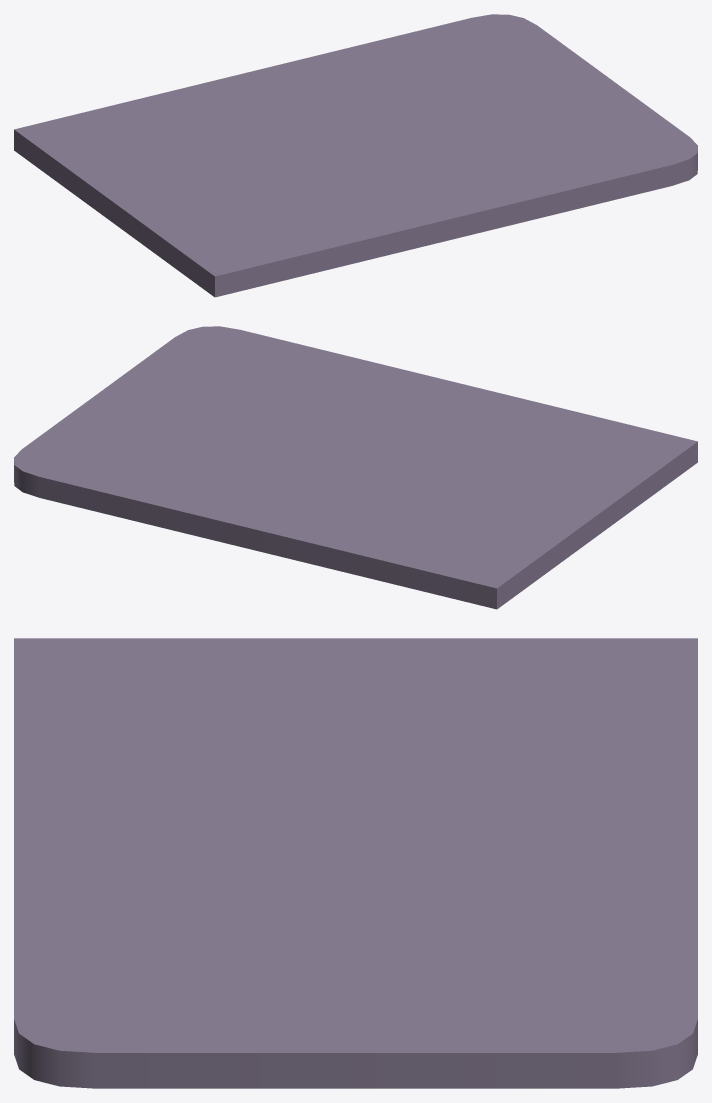
File: house01_parking_s03.FBX
3 renders of one model, top to bottom at view 1: azimuth 30°, elevation 25°; view 2: azimuth 150°, elevation 25°; view 3: azimuth 270°, elevation 25°, orthographic. The views are drawn at different scales.
Parts seen in each view (by area): view 1: house01_parking_s03; view 2: house01_parking_s03; view 3: house01_parking_s03.
Boxes of the visible parts, x1,y1,x2,y2 form: house01_parking_s03: [14, 14, 697, 297]; house01_parking_s03: [14, 326, 697, 609]; house01_parking_s03: [14, 638, 697, 1088].
Size of the model in its own units: 604 by 421 by 24.31.
1 material, 1 textured.
